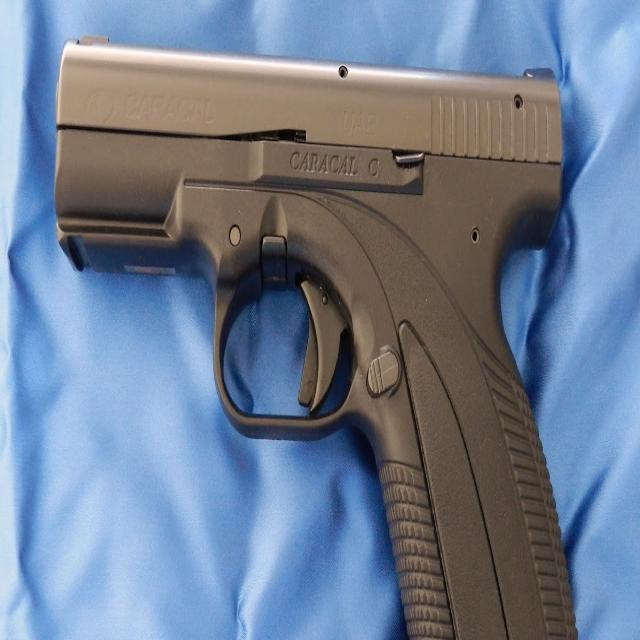Gun: (40, 22, 593, 640)
